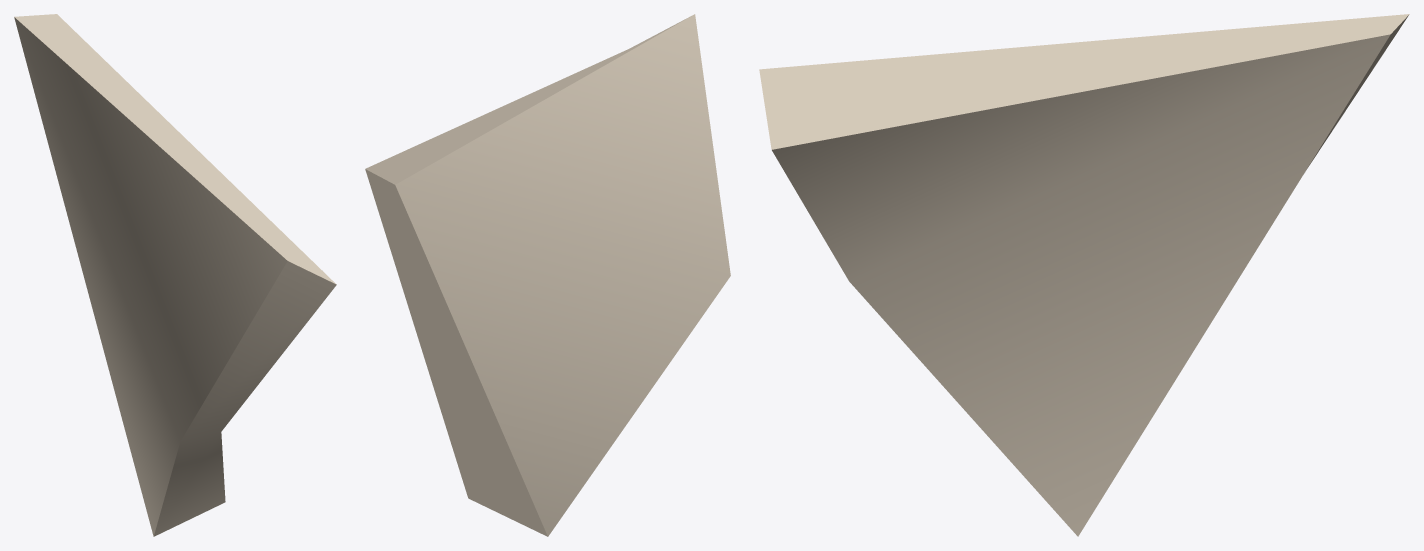
File: zwiebelstueck.fbx
The picture shows the model from 3 angles, left to right: view 1: azimuth 30°, elevation 25°; view 2: azimuth 150°, elevation 25°; view 3: azimuth 270°, elevation 25°; orthographic projection. The views are drawn at different scales.
Parts seen in each view (by area): view 1: zwiebelstueck; view 2: zwiebelstueck; view 3: zwiebelstueck.
Boxes of the visible parts, x1,y1,x2,y2 form: zwiebelstueck: (14,14,336,536); zwiebelstueck: (365,14,730,536); zwiebelstueck: (759,14,1409,536).
Bounding box in the file's own units: 31.12 × 88.41 × 104.
